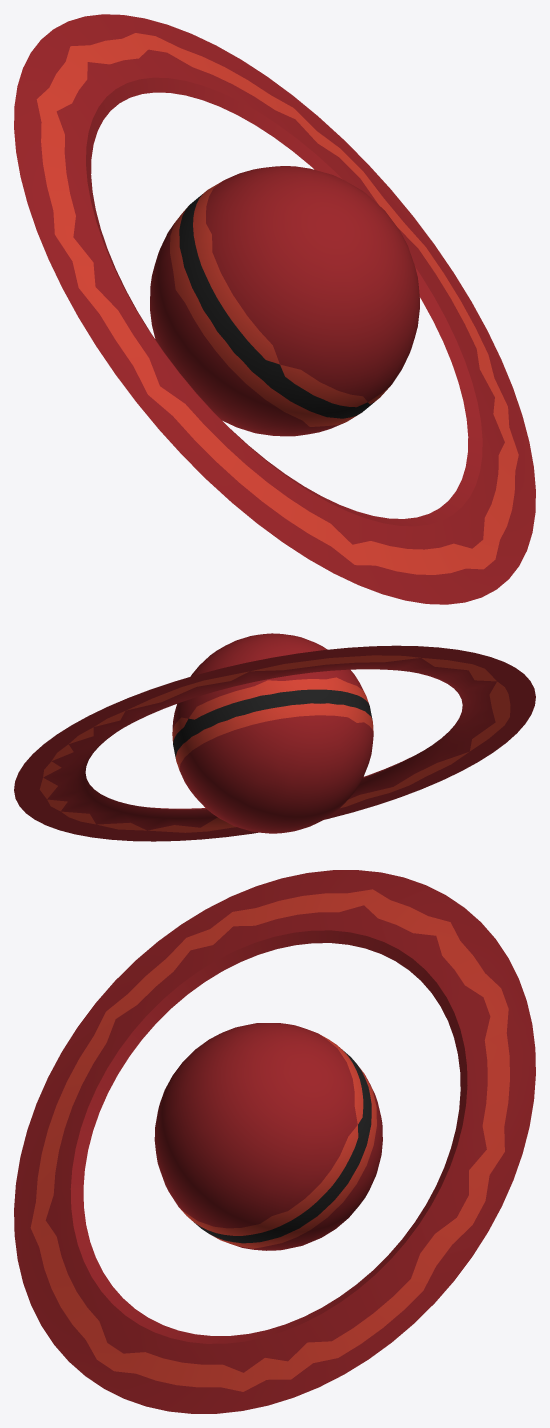
File: planet_desert.repacked.glb
3 renders of one model, top to bottom at view 1: azimuth 30°, elevation 25°; view 2: azimuth 150°, elevation 25°; view 3: azimuth 270°, elevation 25°, orthographic. The views are drawn at different scales.
Parts seen in each view (by area): view 1: Planet_10; view 2: Planet_10; view 3: Planet_10.
Boxes of the visible parts, x1=… form: Planet_10: x1=14, y1=14, x2=535, y2=604; Planet_10: x1=14, y1=633, x2=535, y2=841; Planet_10: x1=14, y1=870, x2=535, y2=1413.
Size of the model in its own units: 5.74 by 4.68 by 5.74.
1 material, 1 textured.
